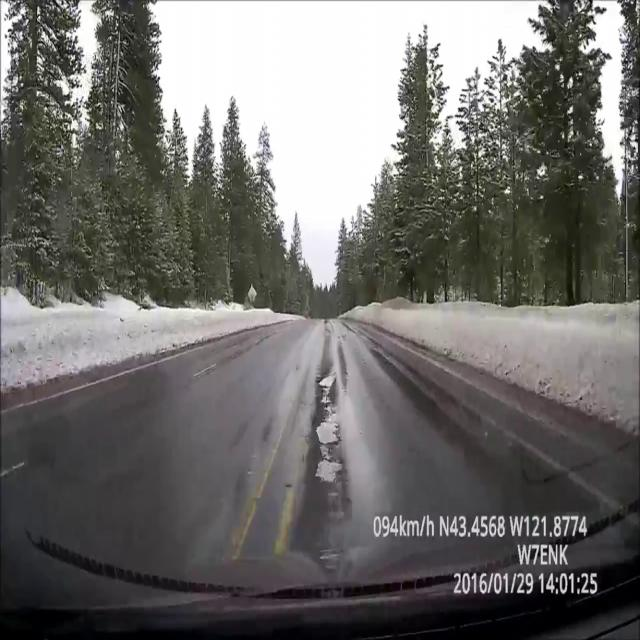Pothole: (311, 418, 343, 450), (311, 456, 345, 486), (317, 373, 337, 387)
